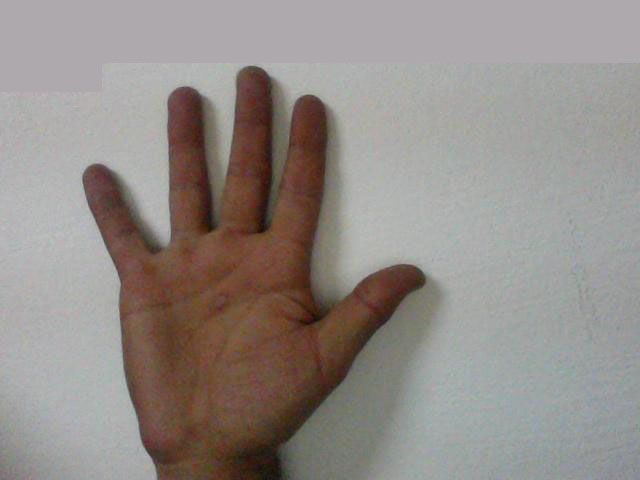hand: (62, 62, 453, 447)
